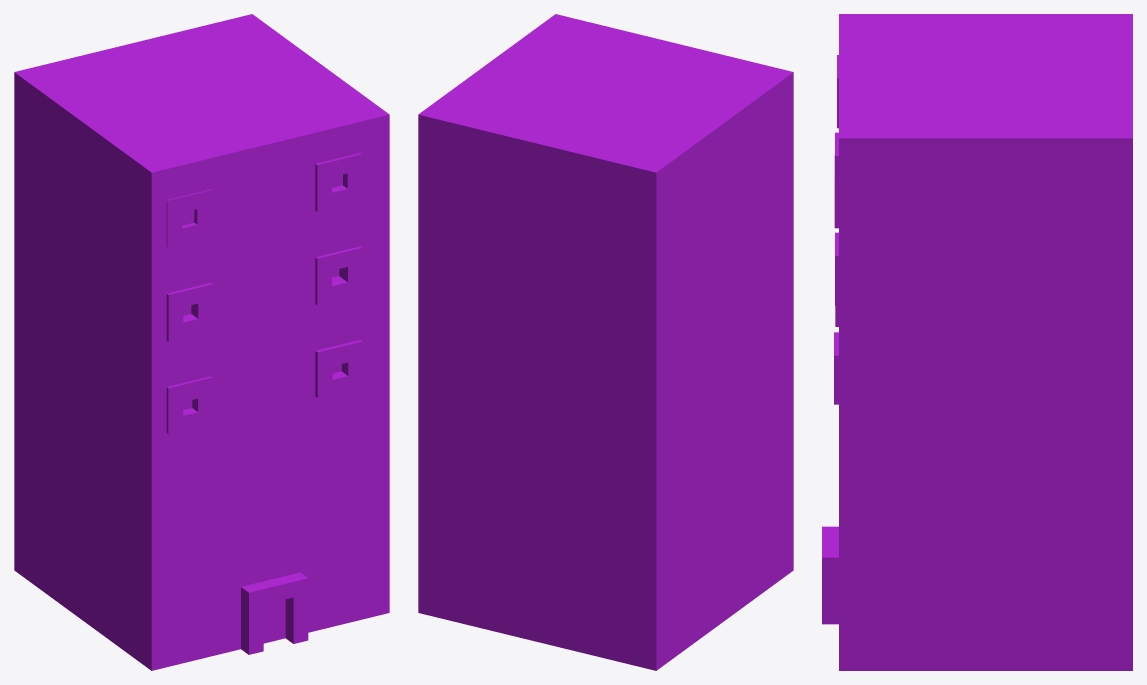
File: Building1.fbx
3 views of the same model, side by side, from view 1: azimuth 30°, elevation 25°; view 2: azimuth 150°, elevation 25°; view 3: azimuth 270°, elevation 25° (orthographic). The views are drawn at different scales.
Visible parts, largest first — view 1: Cube; view 2: Cube; view 3: Cube.
Part boxes in pixels (bbox=[...]): Cube: bbox=[14, 14, 389, 670]; Cube: bbox=[418, 14, 793, 670]; Cube: bbox=[822, 14, 1132, 670].
Size of the model in its own units: 2000 by 4000 by 2116.
